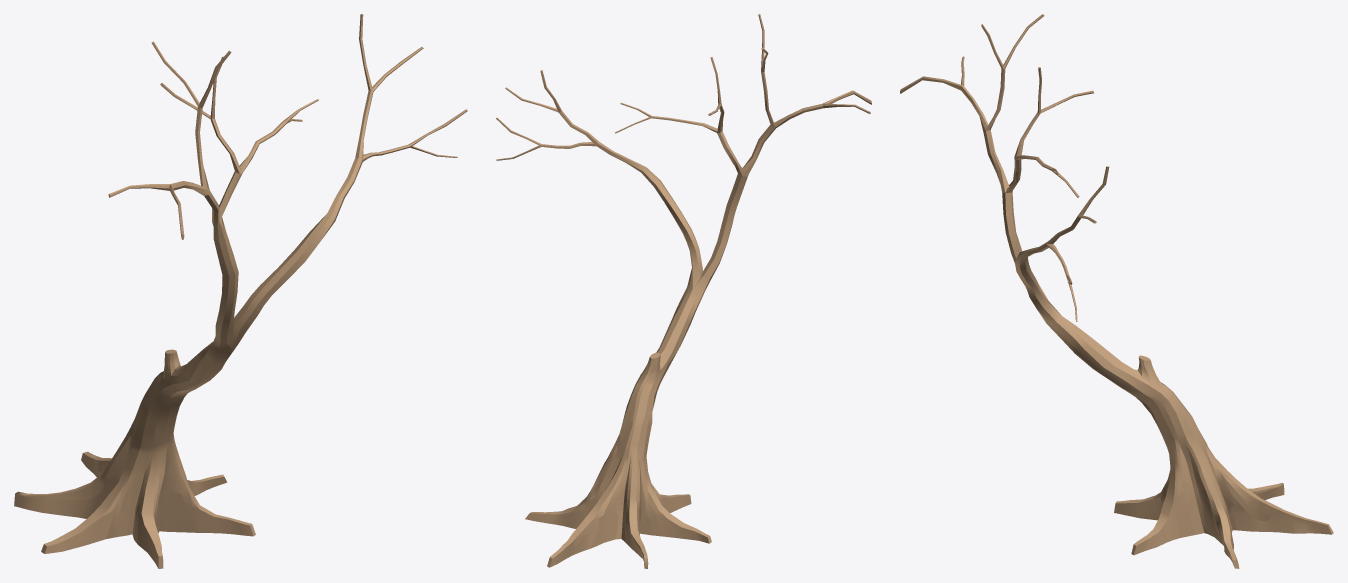
The model's file is jungle_trunk_beach_A.fbx.
The picture shows the model from 3 angles, left to right: view 1: azimuth 30°, elevation 25°; view 2: azimuth 150°, elevation 25°; view 3: azimuth 270°, elevation 25°; orthographic projection. The views are drawn at different scales.
Parts seen in each view (by area): view 1: jungle_trunk_beach_A; view 2: jungle_trunk_beach_A; view 3: jungle_trunk_beach_A.
Part boxes in pixels (<box>): jungle_trunk_beach_A: <box>14,14,467,568</box>; jungle_trunk_beach_A: <box>496,14,871,568</box>; jungle_trunk_beach_A: <box>900,14,1333,568</box>.
Size of the model in its own units: 430 by 565 by 459.
